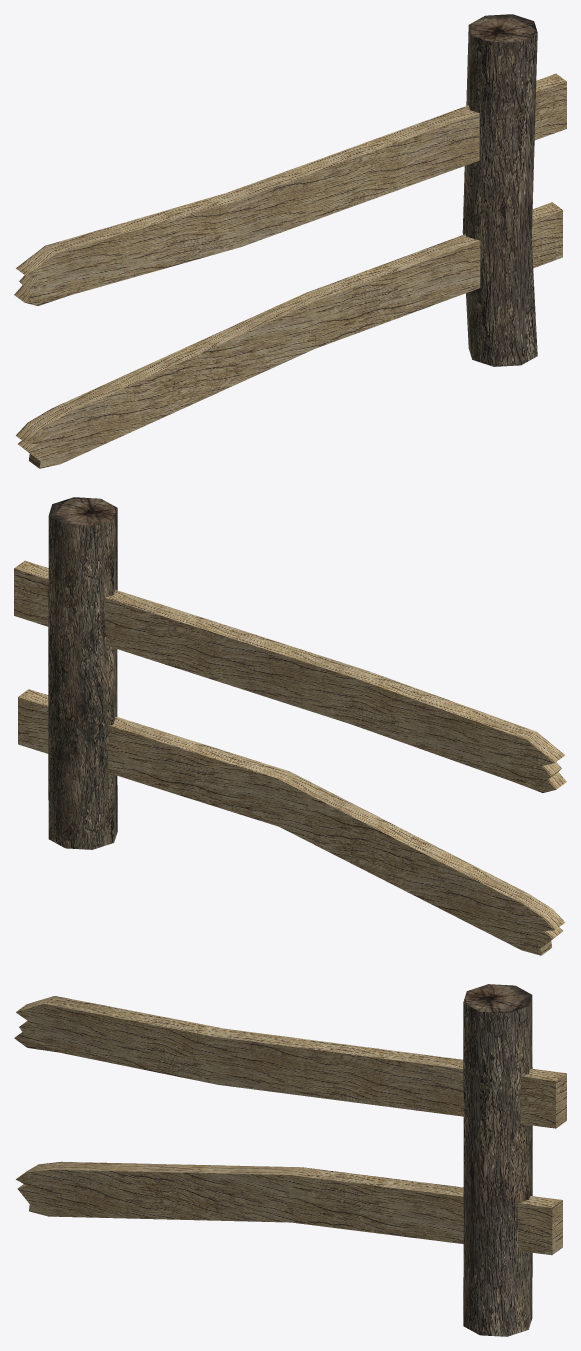
Rendered from woodenFence14.FBX.
3 views of the same model, one above another, from view 1: azimuth 30°, elevation 25°; view 2: azimuth 150°, elevation 25°; view 3: azimuth 330°, elevation 25° (orthographic).
Visible parts, largest first — view 1: wooden_fence_small_broken_1poleR; view 2: wooden_fence_small_broken_1poleR; view 3: wooden_fence_small_broken_1poleR.
Boxes of the visible parts, x1=… form: wooden_fence_small_broken_1poleR: x1=14, y1=14, x2=566, y2=468; wooden_fence_small_broken_1poleR: x1=14, y1=497, x2=566, y2=955; wooden_fence_small_broken_1poleR: x1=14, y1=984, x2=566, y2=1336.
Size of the model in its own units: 251 by 143 by 31.18.
